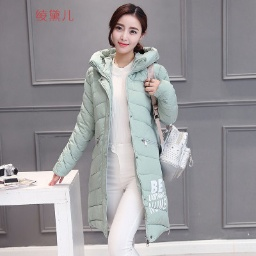face: (104, 3, 149, 56)
